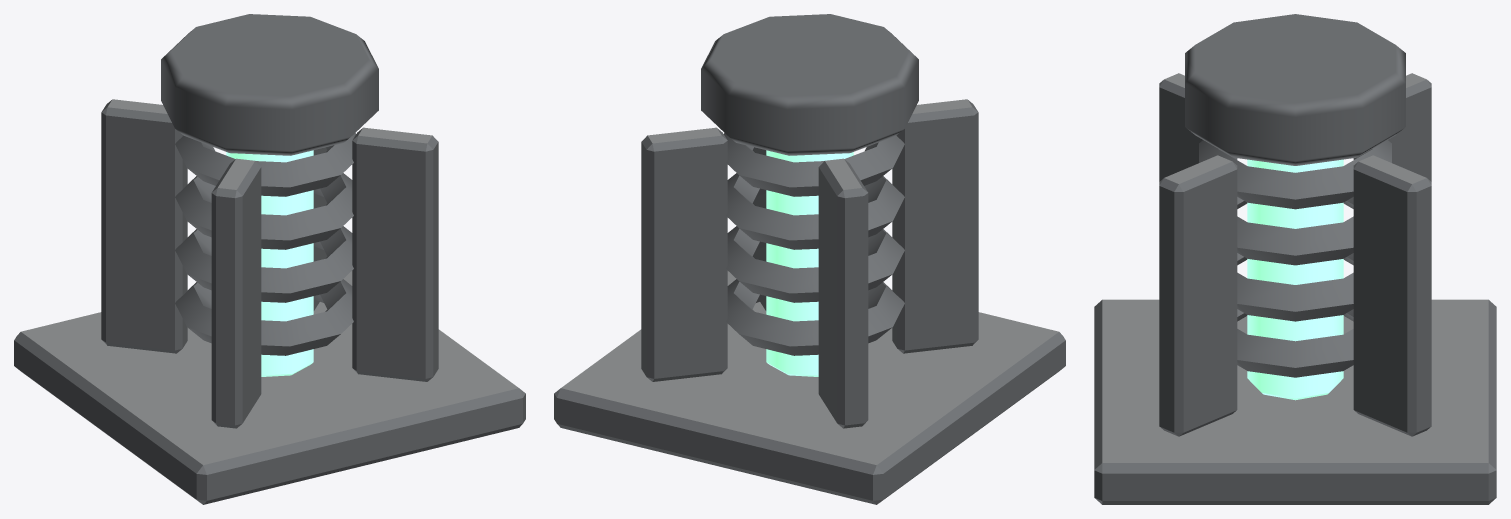
File: R4X_EnergyRegenerator_LOD1.glb
3 renders of one model, left to right at view 1: azimuth 30°, elevation 25°; view 2: azimuth 150°, elevation 25°; view 3: azimuth 270°, elevation 25°, orthographic. The views are drawn at different scales.
Parts seen in each view (by area): view 1: R4X_EnergyRegenerator_LOD1; view 2: R4X_EnergyRegenerator_LOD1; view 3: R4X_EnergyRegenerator_LOD1.
Part boxes in pixels (x1,y1,x2,y2): R4X_EnergyRegenerator_LOD1: (14,14,525,504); R4X_EnergyRegenerator_LOD1: (554,14,1065,504); R4X_EnergyRegenerator_LOD1: (1094,14,1496,504).
Bounding box in the file's own units: 0.52 × 0.52 × 0.52.
